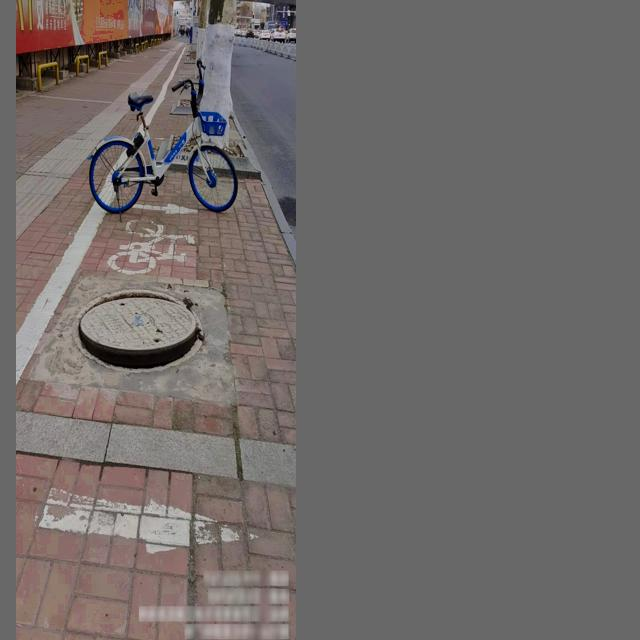uncovered: (73, 289, 204, 376)
